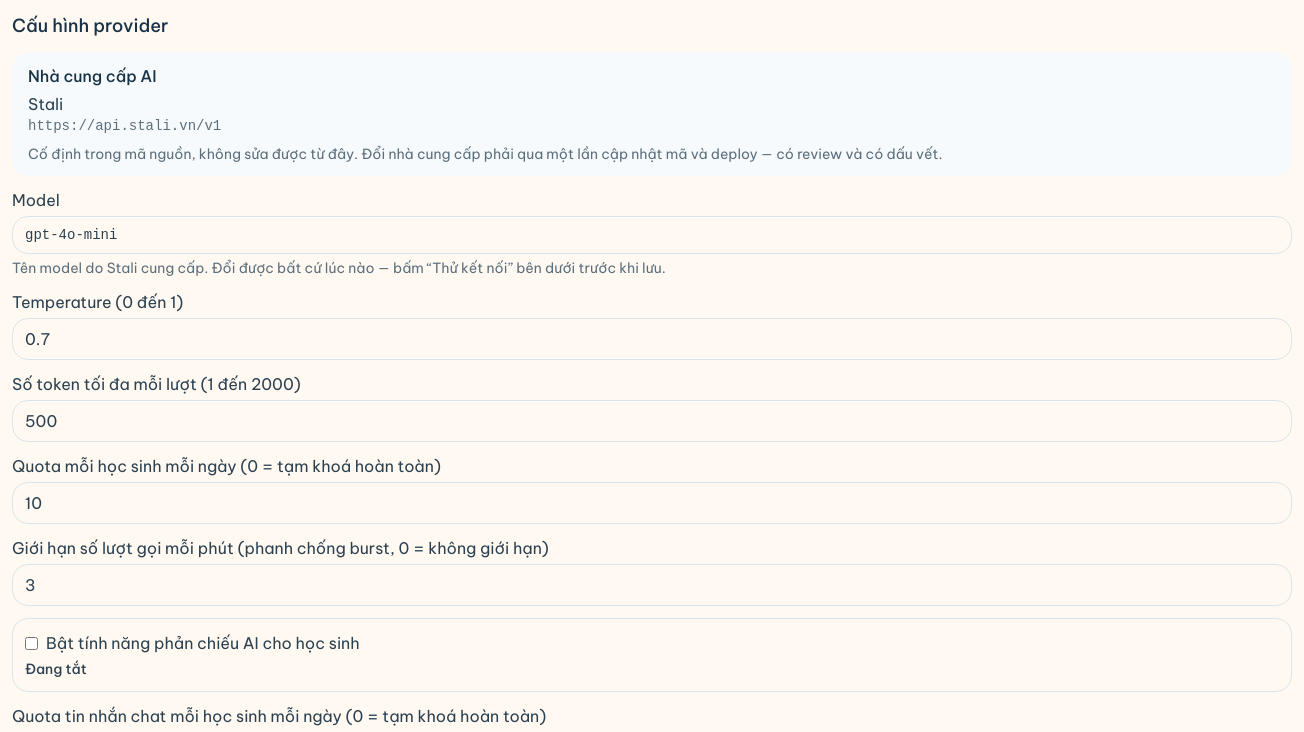
Test: AiConfigEditor — kill switch (Decision D) › bật công tắc nhưng CHƯA lưu -> hiện trạng thái TƯƠNG LAI ('Sẽ bật sau khi lưu')
Expected: the field labelled "Model" is shown, [12,216,1292,254]
Click the checkbox labelled "Bật tính năng phản chiếu AI cho học sinh". click: (32, 643)
box: [25,636,38,650]
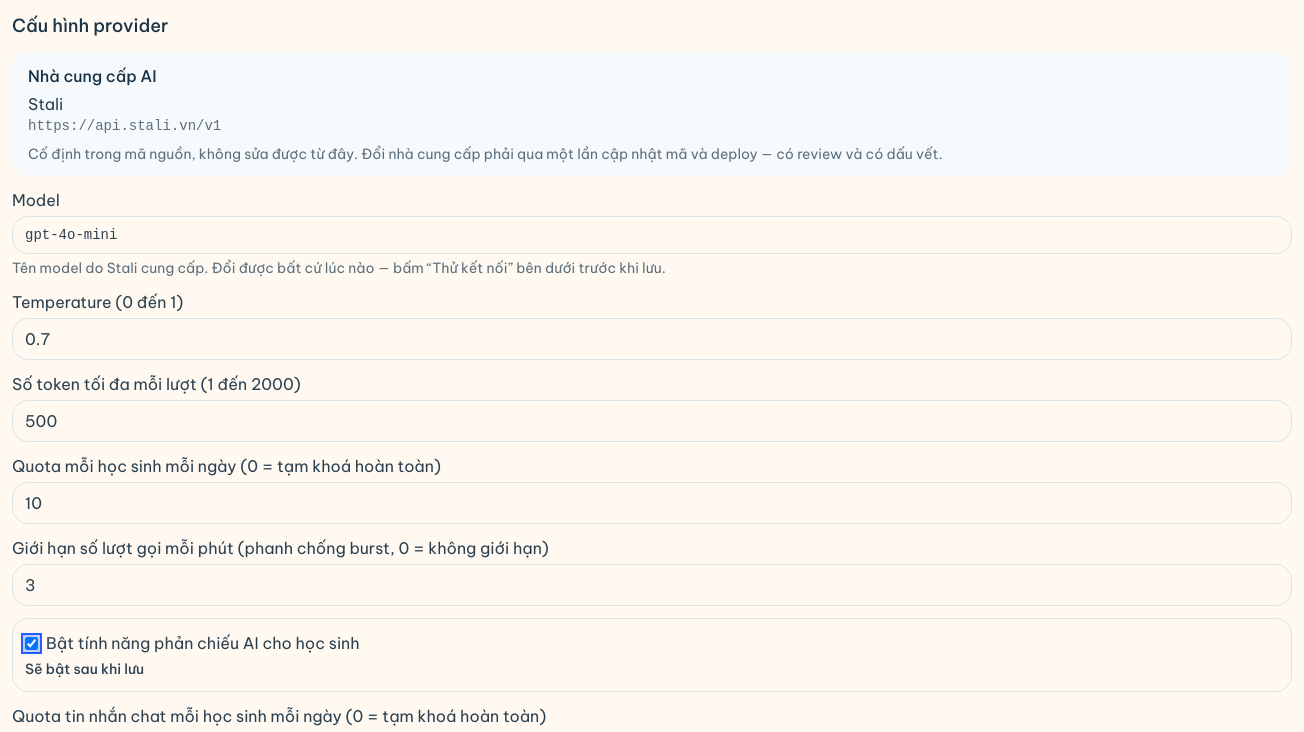
Expected: the text "Sẽ bật sau khi lưu" is shown, [25,660,144,678]
